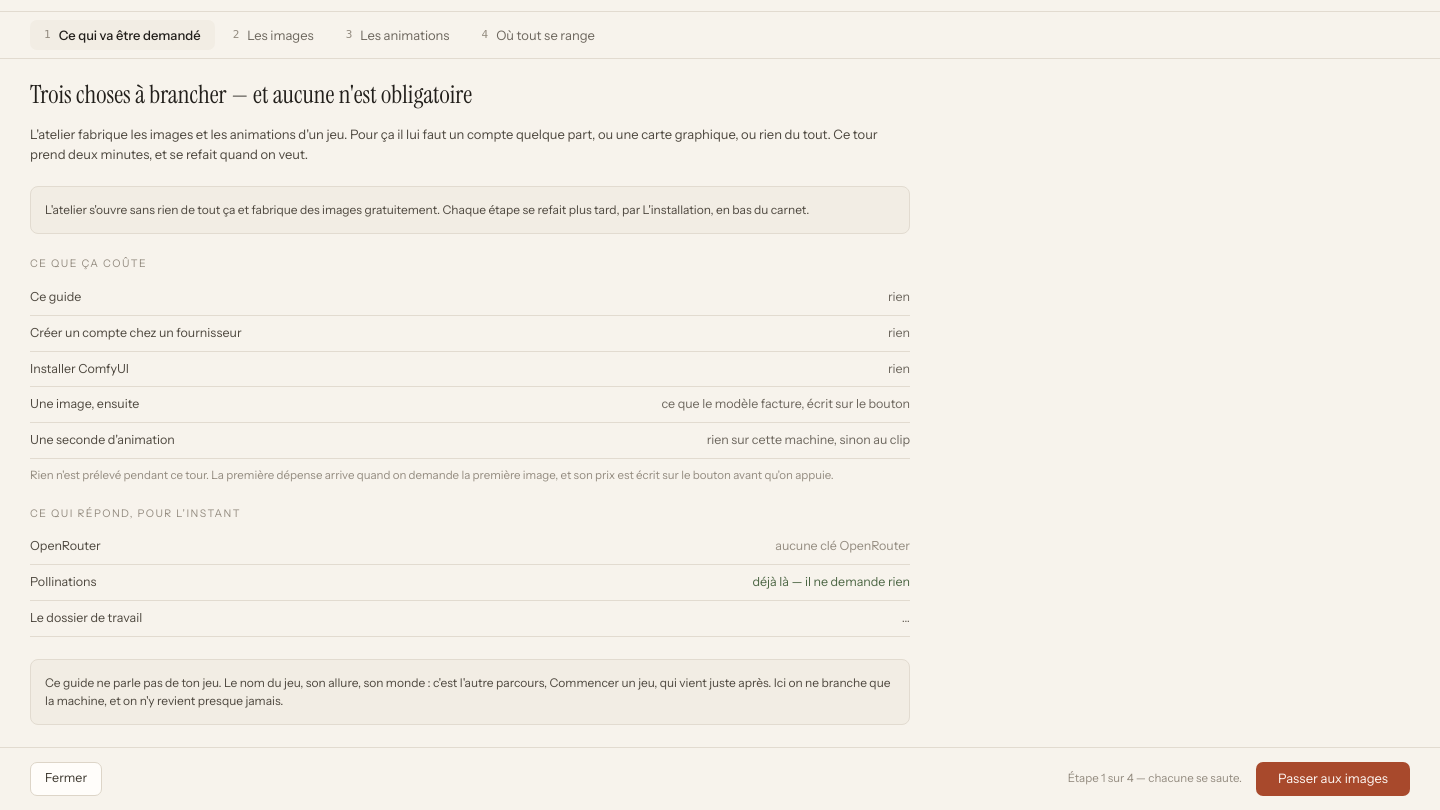
Scenario: le sommaire des quatre étapes › les boutons de navigation nomment l'étape en français
(page scrolled)
What coordinates should you click on to do the following:
click the button "Passer aux images"
I would click on:
 (1333, 779)
Its box is [1256, 762, 1410, 796].
(page scrolled)
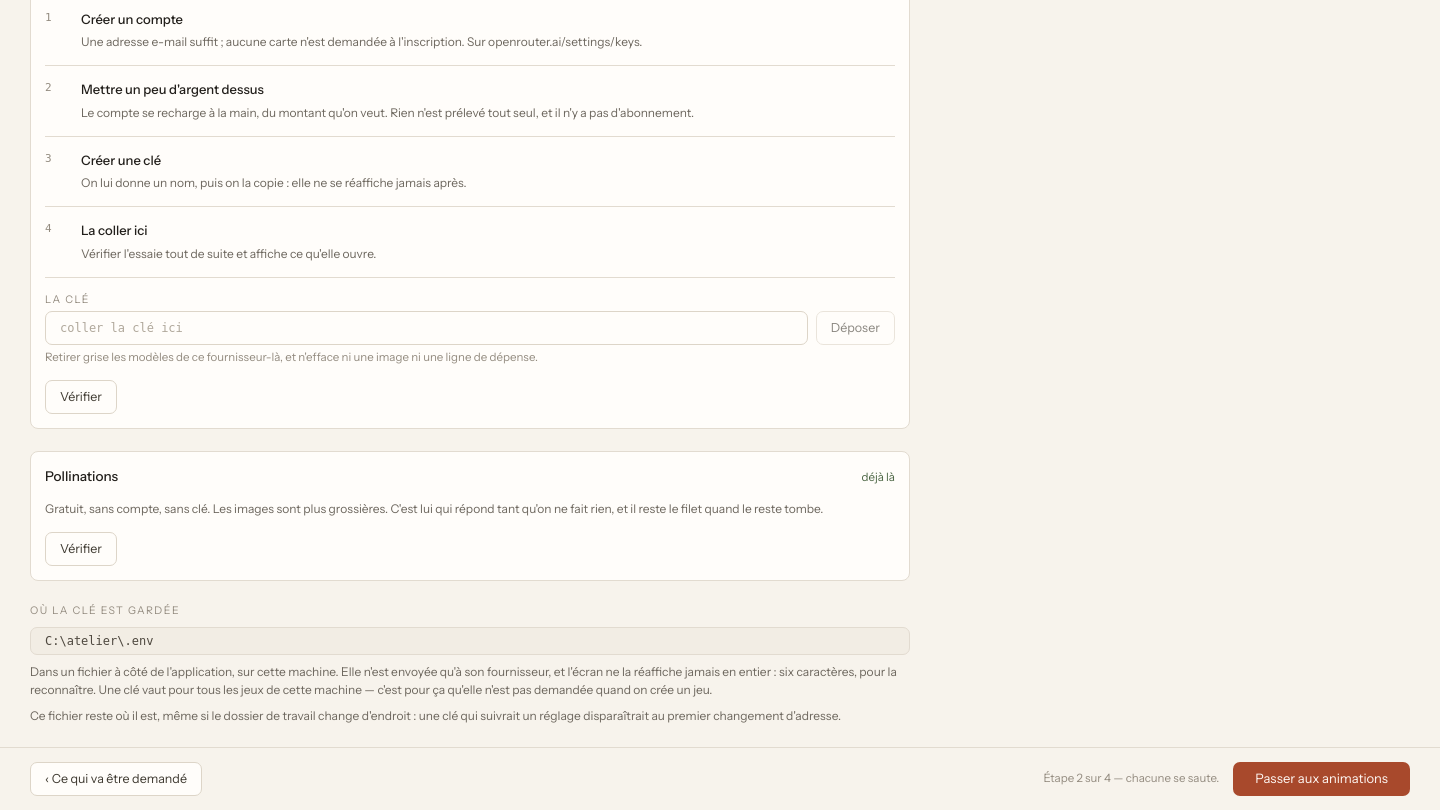
Check: the button "‹ Ce qui va être demandé" is shown, box [30, 762, 202, 796]
Check: the button "Passer aux animations" is shown
What coordinates should you click on to do the following:
click the button "Passer aux animations"
I would click on:
 (1322, 779)
Its box is [1233, 762, 1410, 796].
(page scrolled)
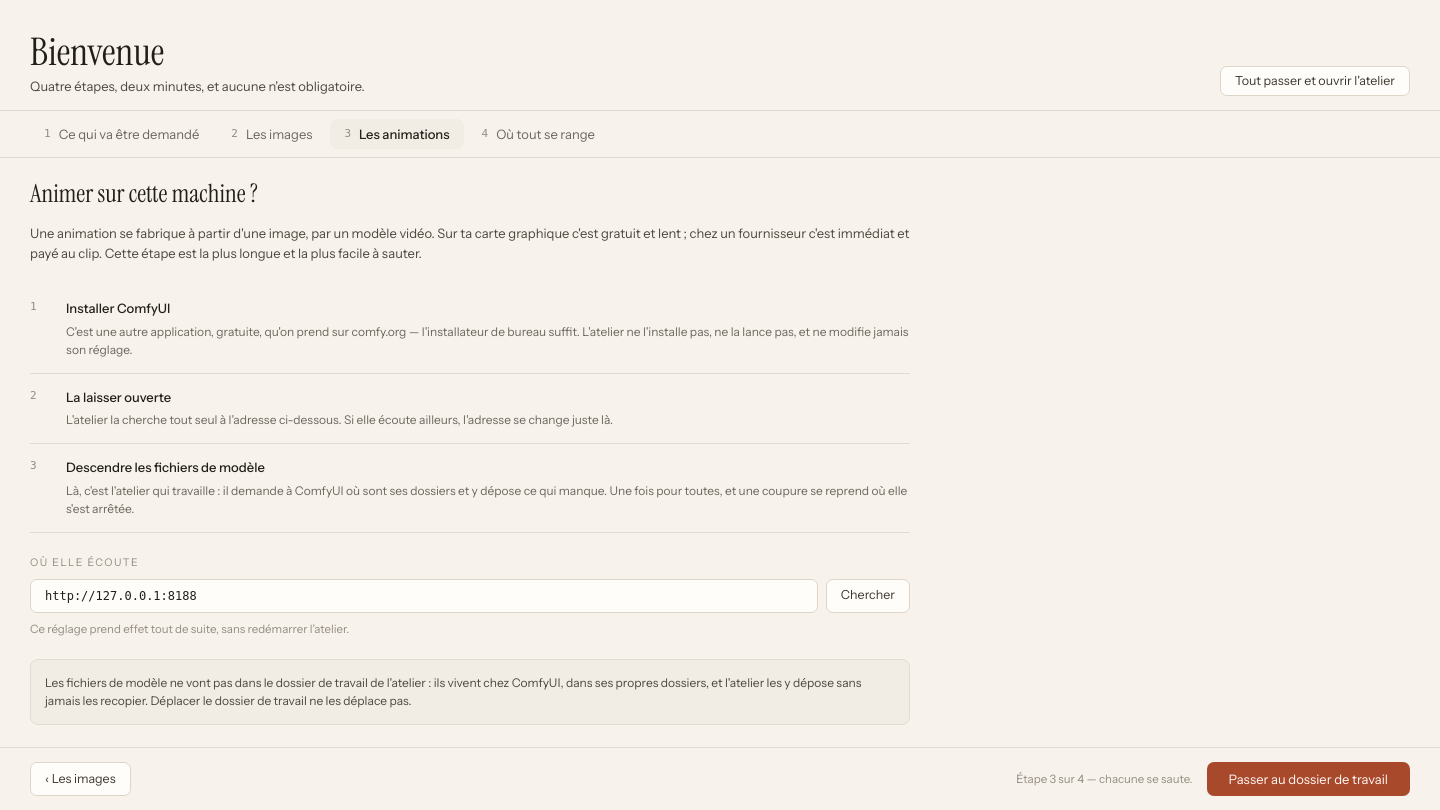
Check: the button "‹ Les images" is shown, box [30, 762, 131, 796]
Check: the button "Passer au dossier de travail" is shown
What coordinates should you click on to do the following:
click the button "Passer au dossier de travail"
I would click on:
 (1308, 779)
Its box is [1206, 762, 1410, 796].
(page scrolled)
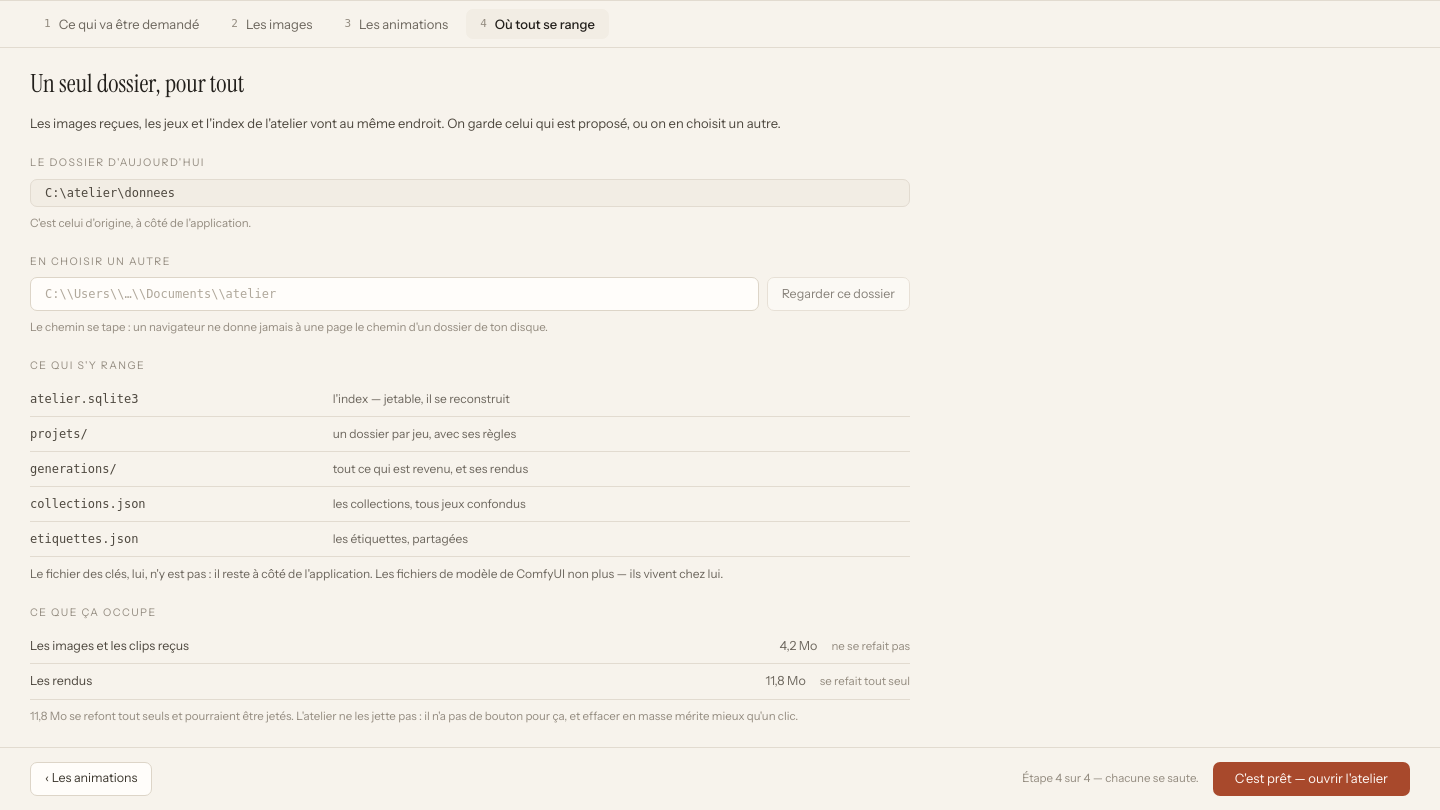
Check: the button "‹ Les animations" is shown, box [30, 762, 152, 796]
Check: the button "C'est prêt — ouvrir l'atelier" is shown, box [1213, 762, 1410, 796]
